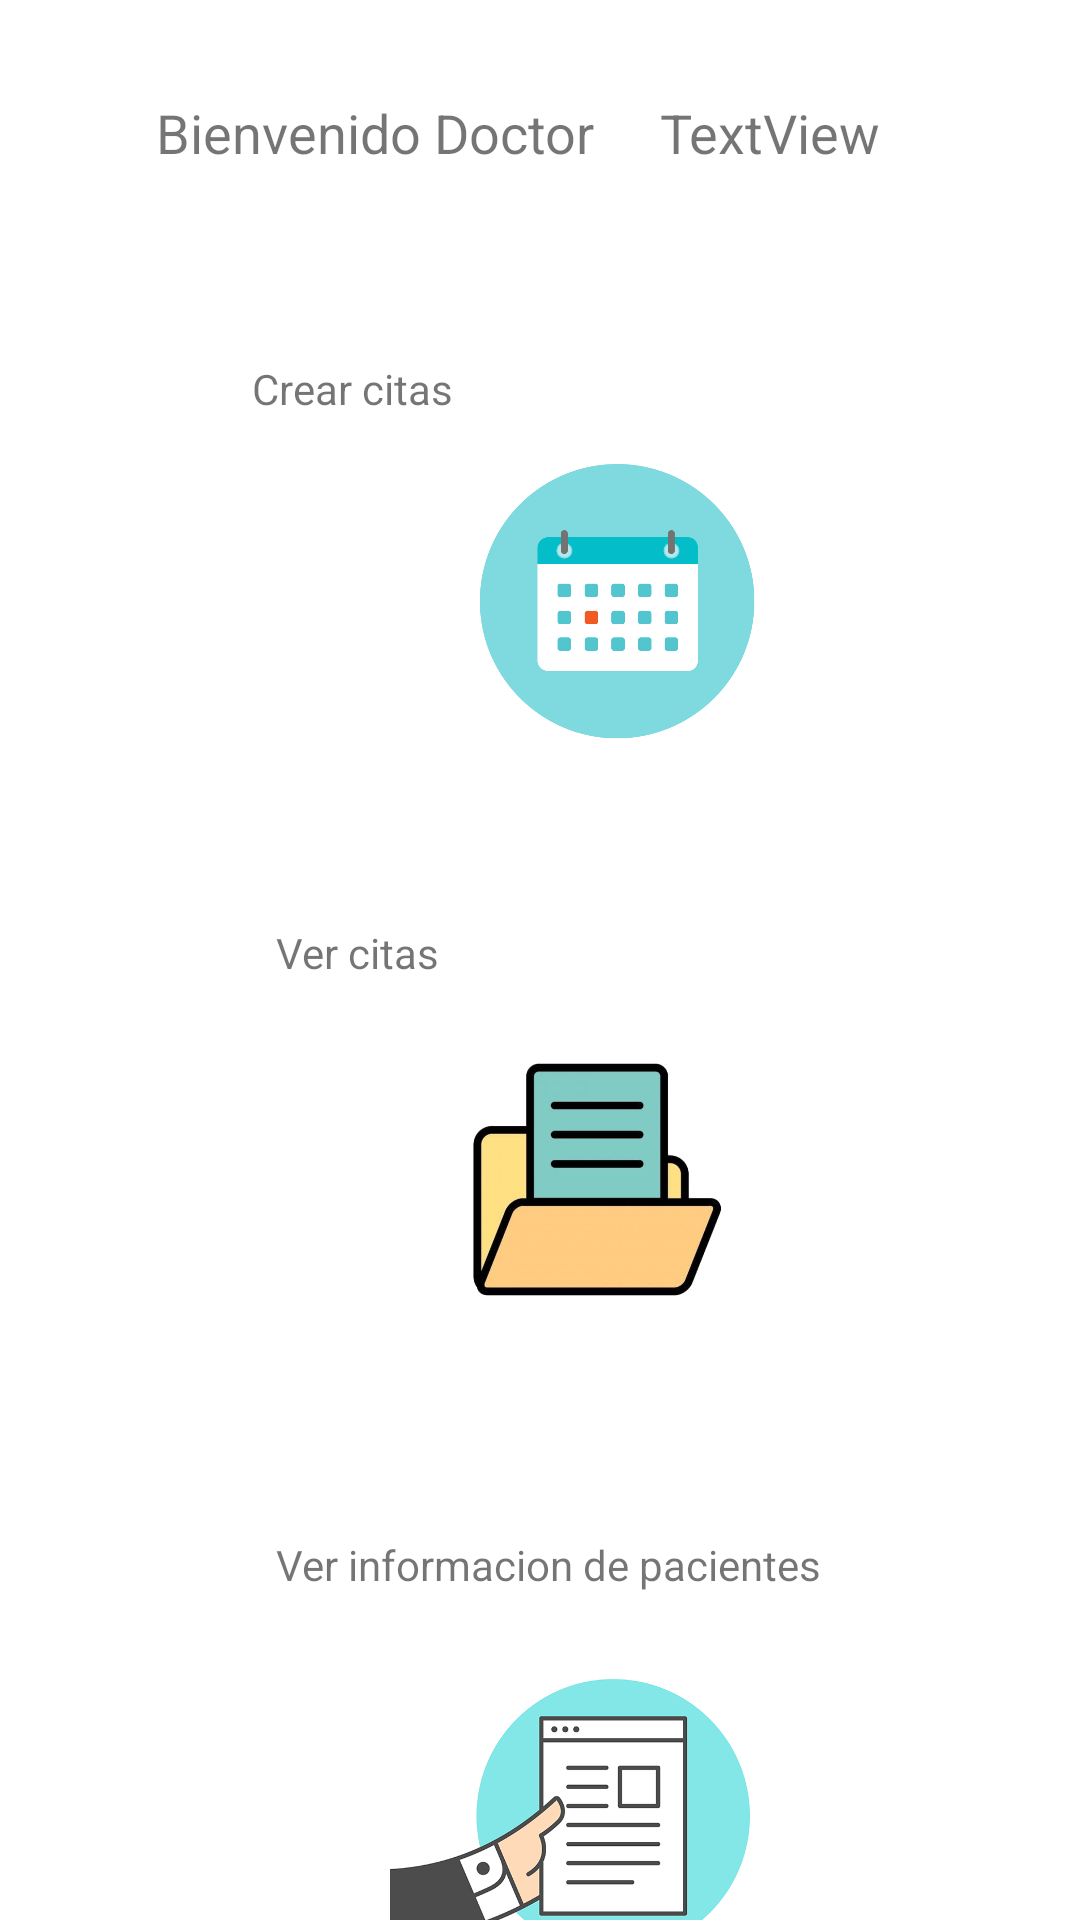

Icon click points for this 1080×1920 phone screenshot, format (x,y):
agendar: (617,601)
